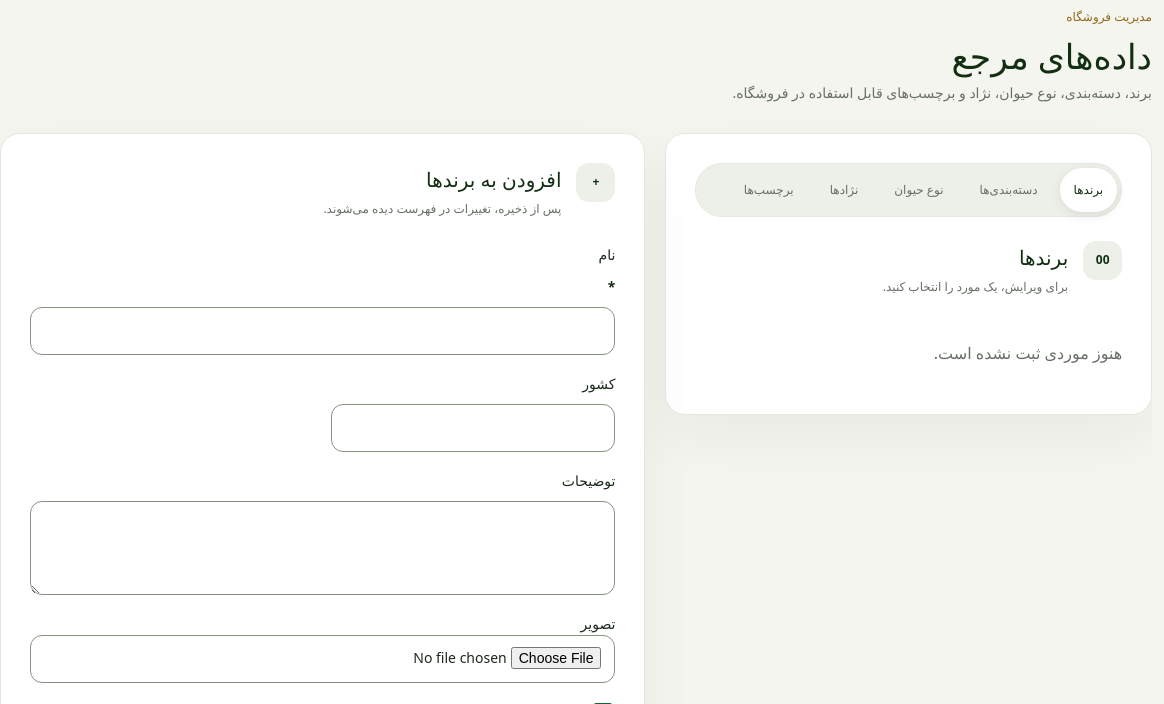
Test: retains the existing برچسب‌ها creation contract
Click the button "برچسب‌ها" at x=769, y=190, box [730,168,808,212]
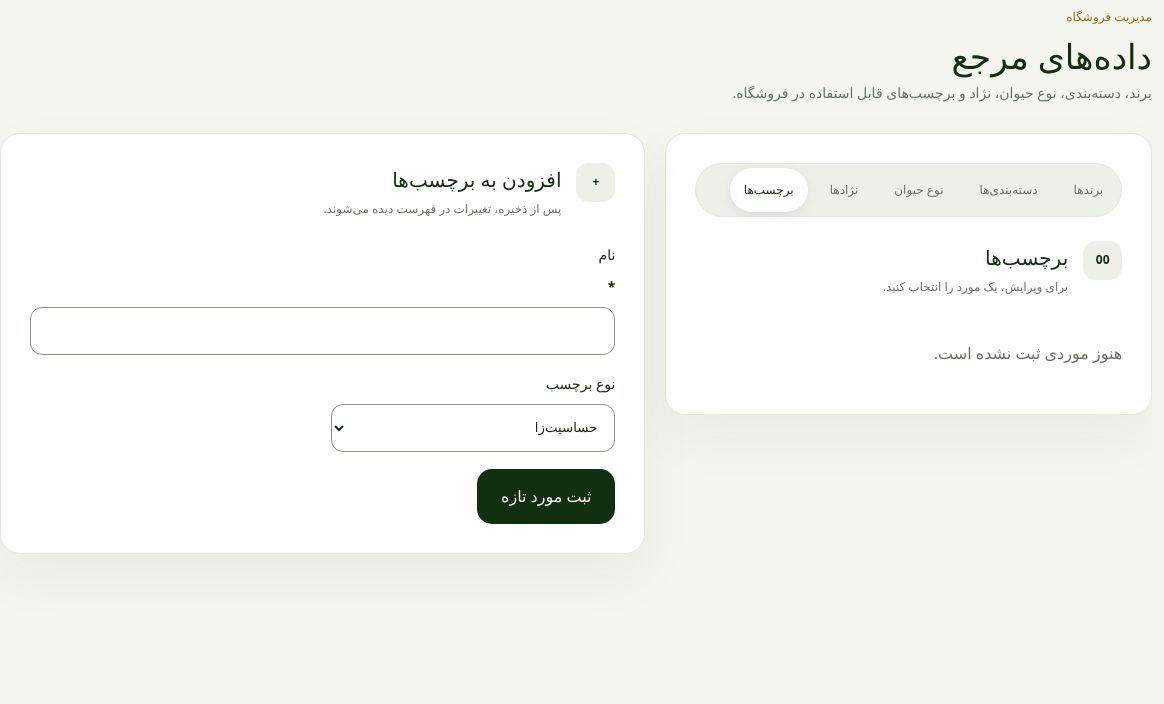
Type "مرجع تازه" into the field labelled "نام *" at x=323, y=331, box [30,307,616,355]
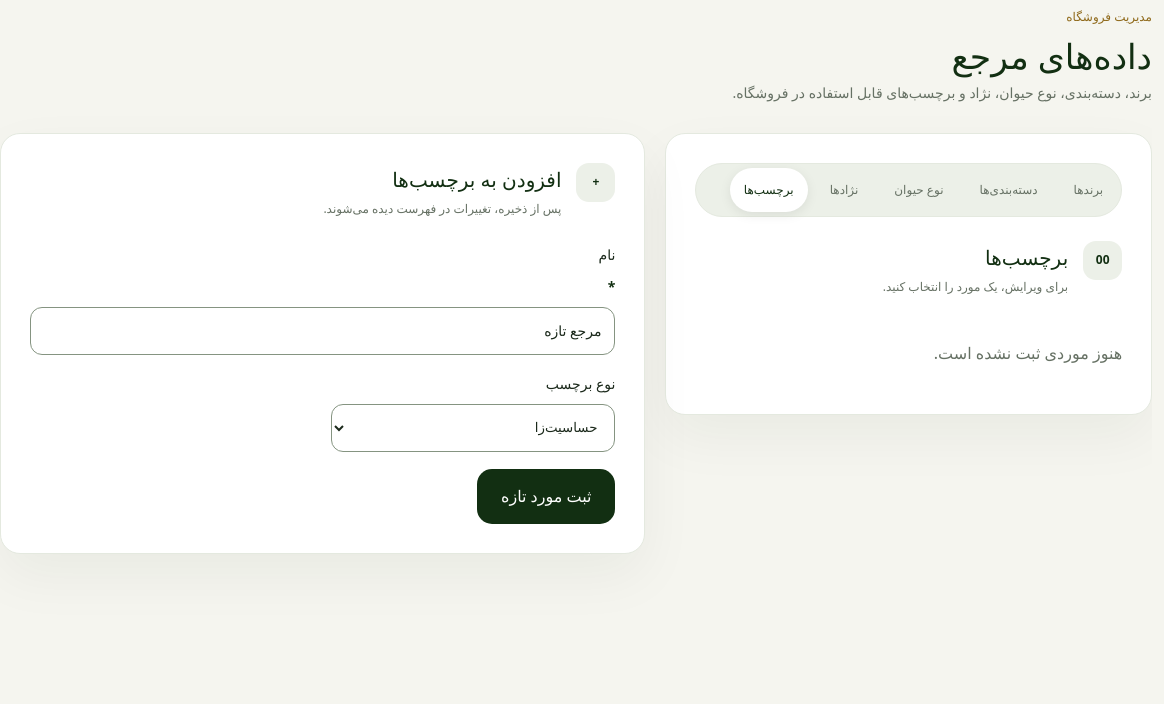
Click the button "ثبت مورد تازه" at x=546, y=496, box [477,469,615,524]
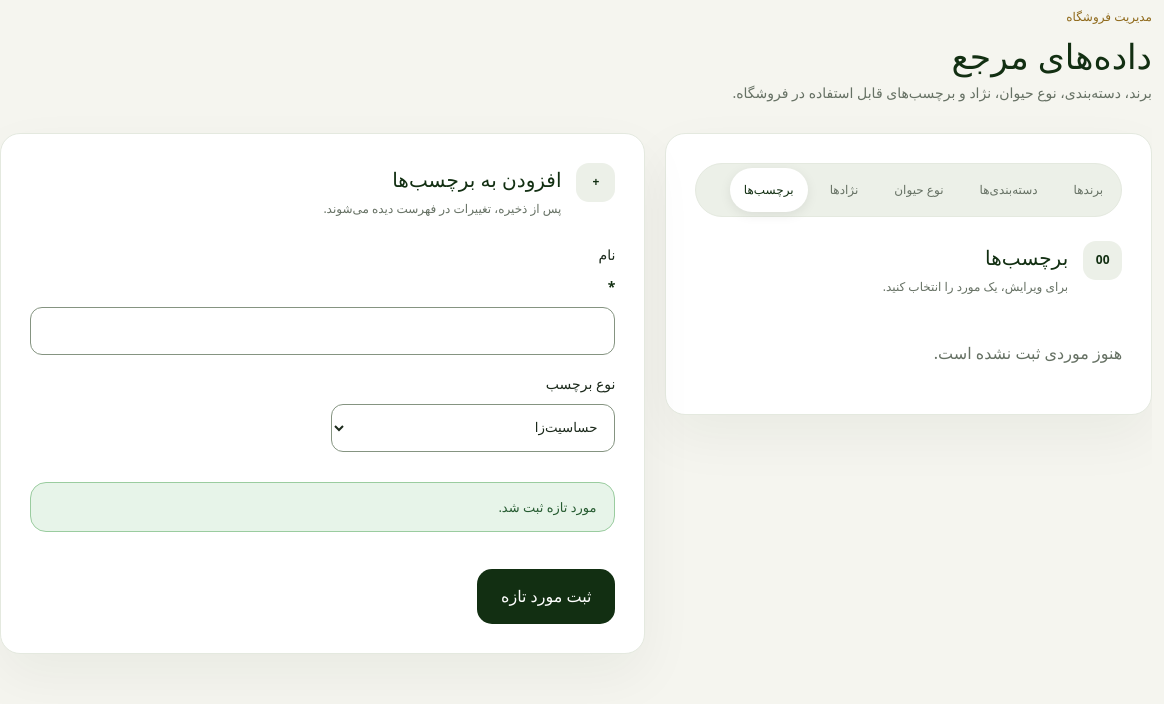
Result: the text "مورد تازه ثبت شد." is shown at [30,482,616,532]
